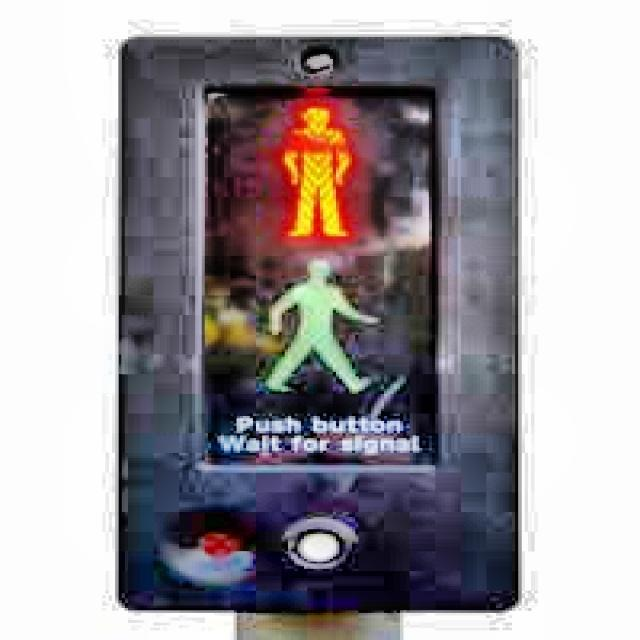red_light: (272, 102, 354, 244)
